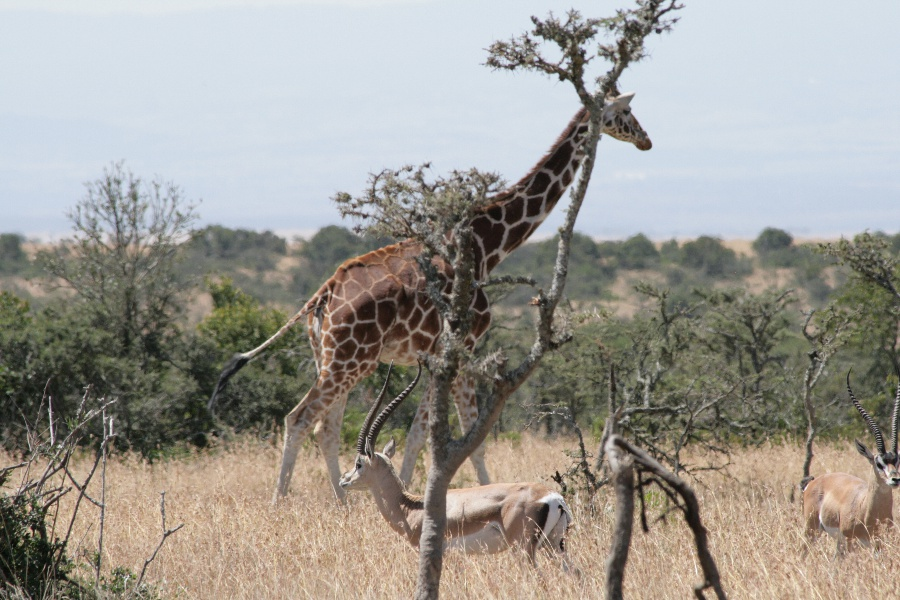giraffe: (241, 69, 658, 517)
